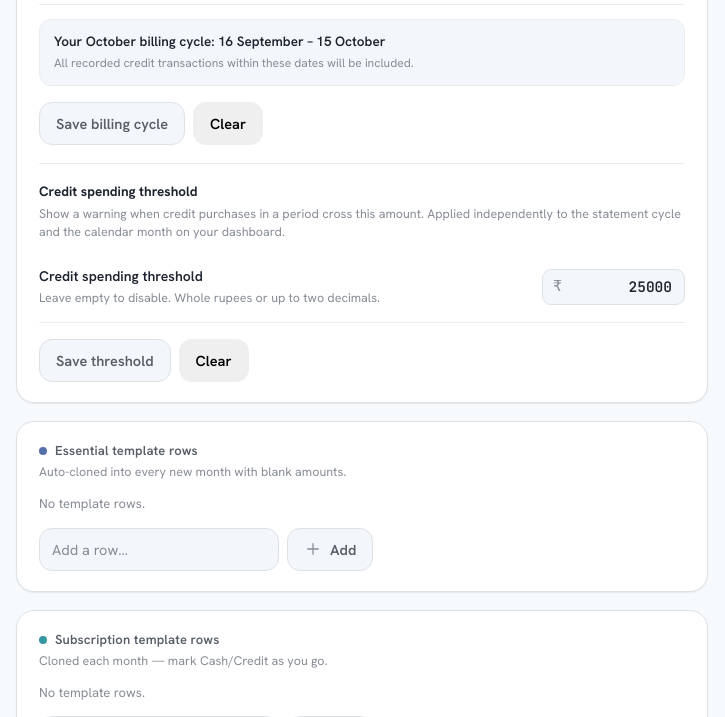
Scenario: Settings — credit spending threshold › keeps the previous value and shows an error when a clear fails
The image size is (725, 717).
(page scrolled)
Expected: the field named "Credit spending threshold amount" holds "25000", [564,276,674,297]
Click the 2nd button "Clear" at (214, 360), box [178,339,248,382]
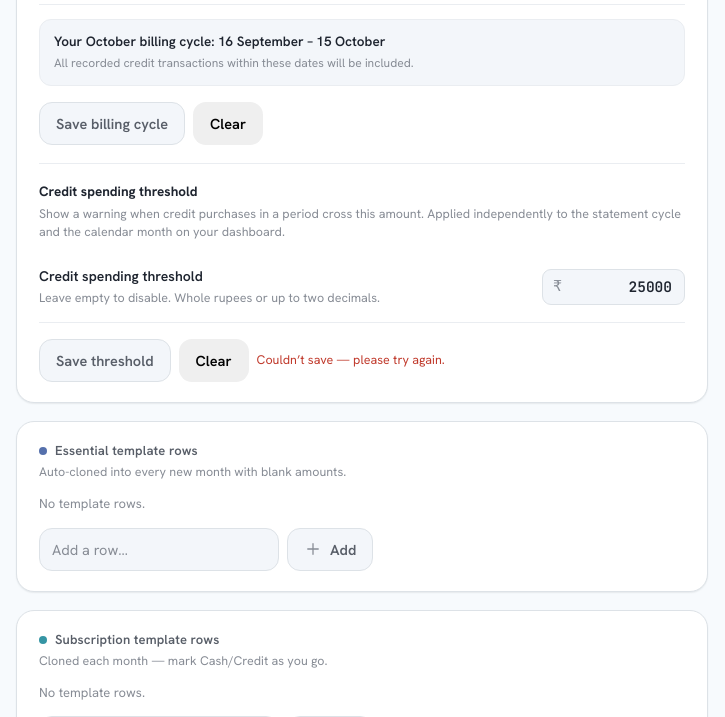
Expected: the field named "Credit spending threshold amount" holds "25000", [564,276,674,297]
Expected: the text "Couldn’t save — please try again." is shown, [257,351,445,369]
